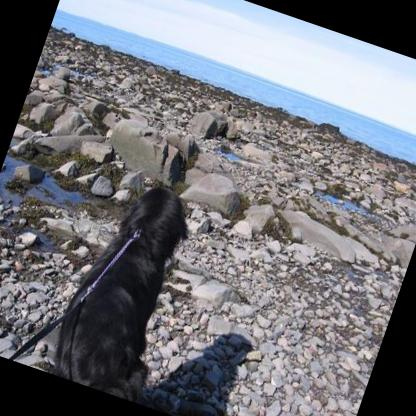Newfoundland: (47, 168, 198, 395)
